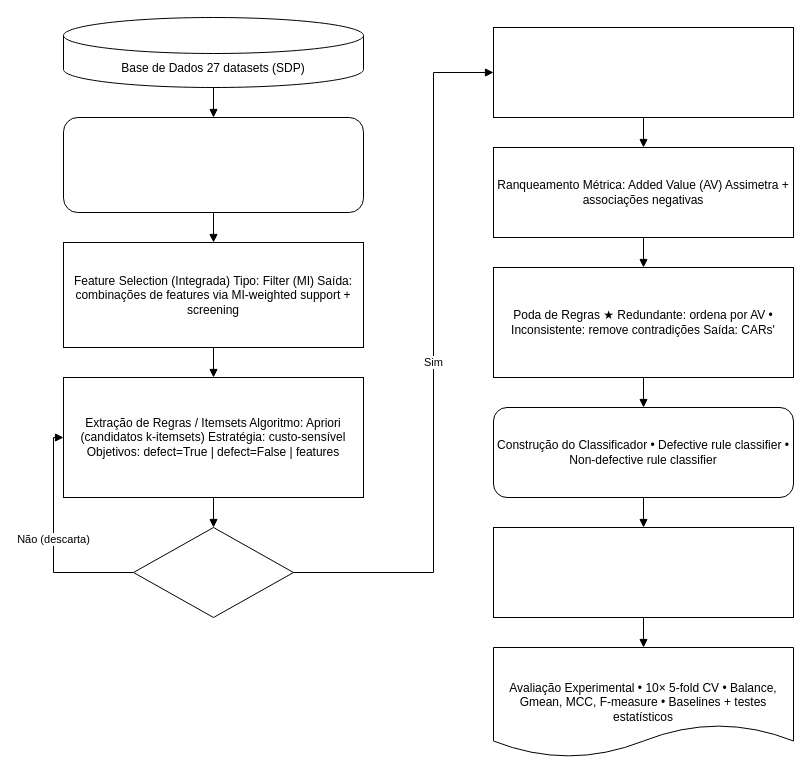
Image size: 811x775. Some labels were removed from this diagram. Here are the shapes that lost their labels. From the top down, the box of each, then its label:
(492, 26, 794, 118): Geração de CARs Peso: coef. de correlação Saída: CARs (defect / não-defect)
(62, 116, 364, 212): Pré-Processamento • Defect: True/False • Discretização • Dados transacionais
(132, 526, 294, 618): Itemset atende suporte ponderado mínimo (por tipo)?
(492, 526, 794, 618): Classificação de Instâncias Match antecedentes Soma AV: DSumAV vs NDSumAV
